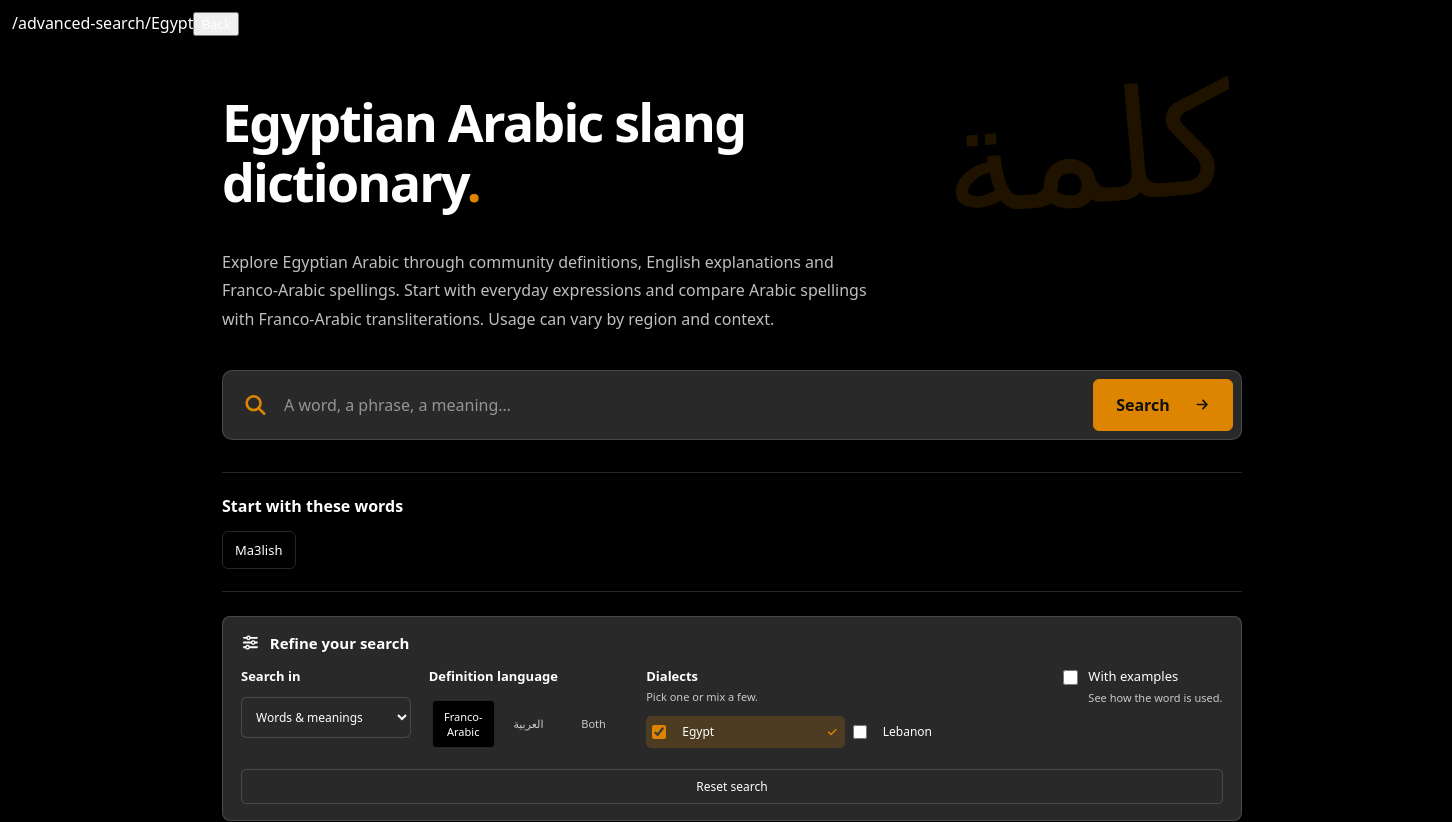
Test: advanced search › retains a country from the existing country route when searching
Type "hi" into the search field.
click(681, 405); type("hi")  # box [284,384,1077,426]
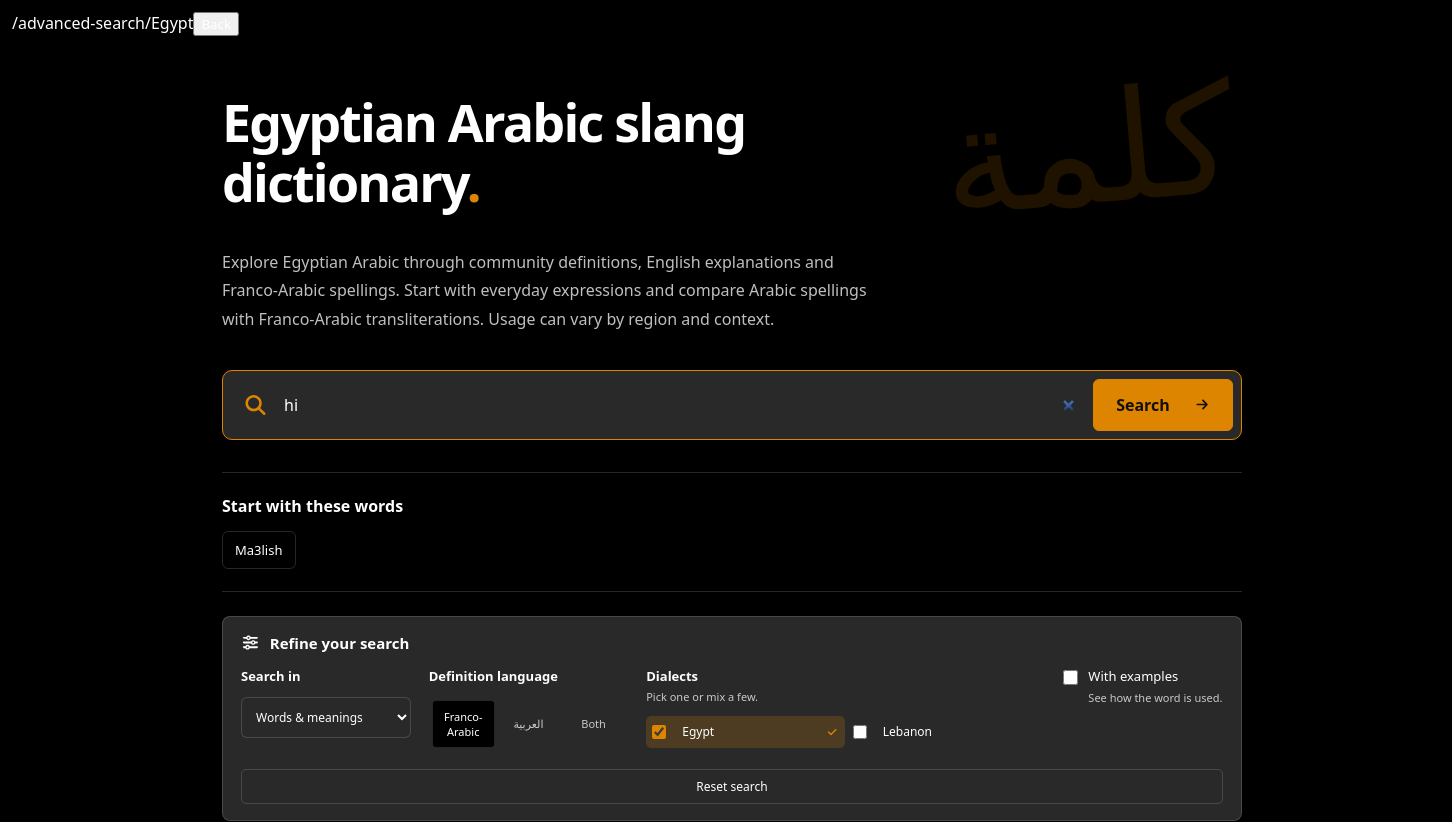
Click the button "Search".
click(1163, 405)  # box [1093,379,1233,431]
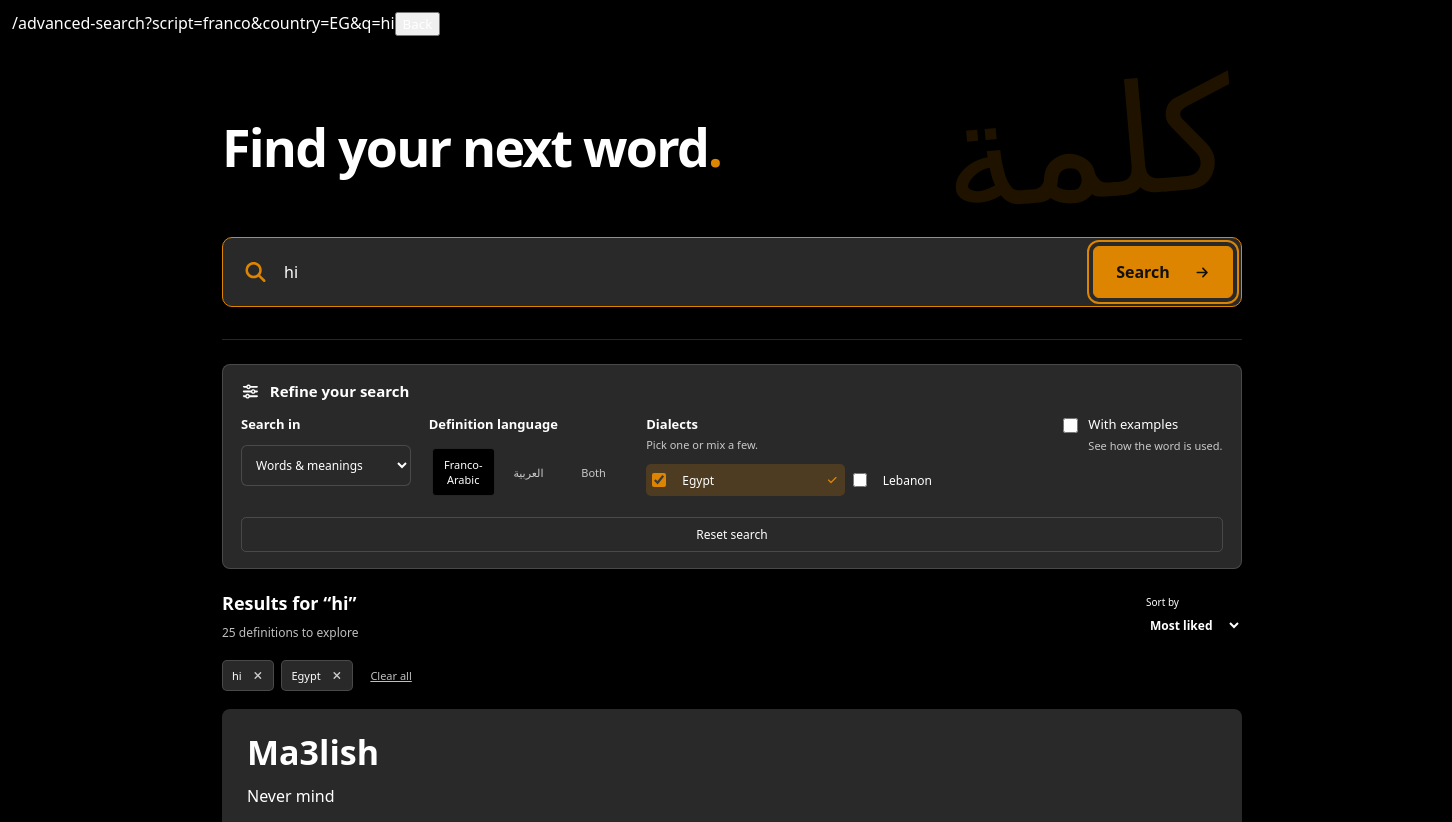
Check: the text with test id "url" shows "country=EG", box [145,12,395,34]
Check: the text with test id "url" shows "q=hi", box [145,12,395,34]
